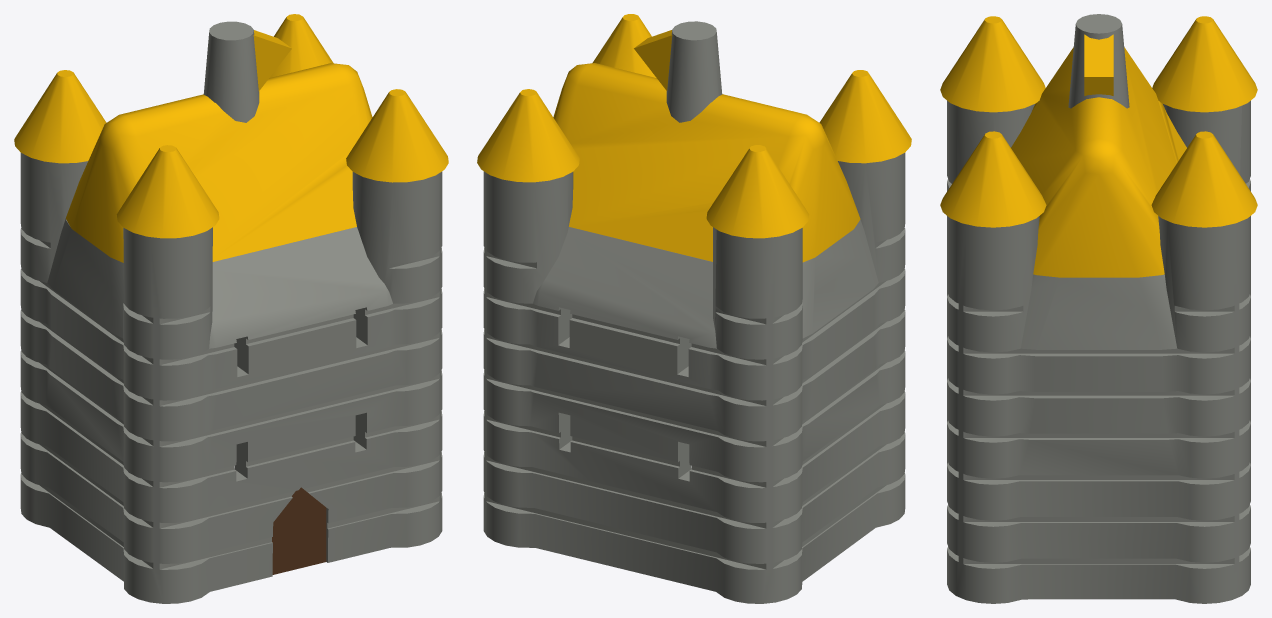
The model's file is festung_gelb.glb.
3 renders of one model, left to right at view 1: azimuth 30°, elevation 25°; view 2: azimuth 150°, elevation 25°; view 3: azimuth 270°, elevation 25°, orthographic. The views are drawn at different scales.
Parts seen in each view (by area): view 1: festung_gelb; view 2: festung_gelb; view 3: festung_gelb.
Boxes of the visible parts, <box> form: festung_gelb: <box>14,14,448,603</box>; festung_gelb: <box>477,14,911,603</box>; festung_gelb: <box>940,14,1257,603</box>.
Bounding box in the file's own units: 19.6 × 28.7 × 16.43.
